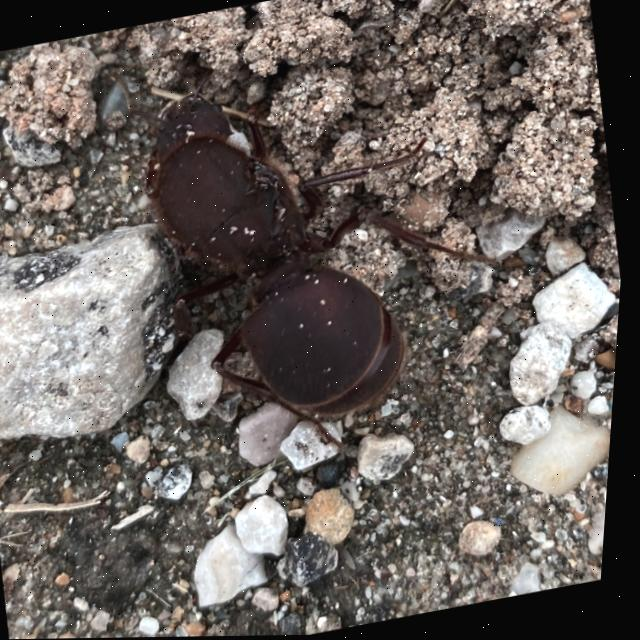Alive-Female-Dealate: (92, 4, 542, 489)
